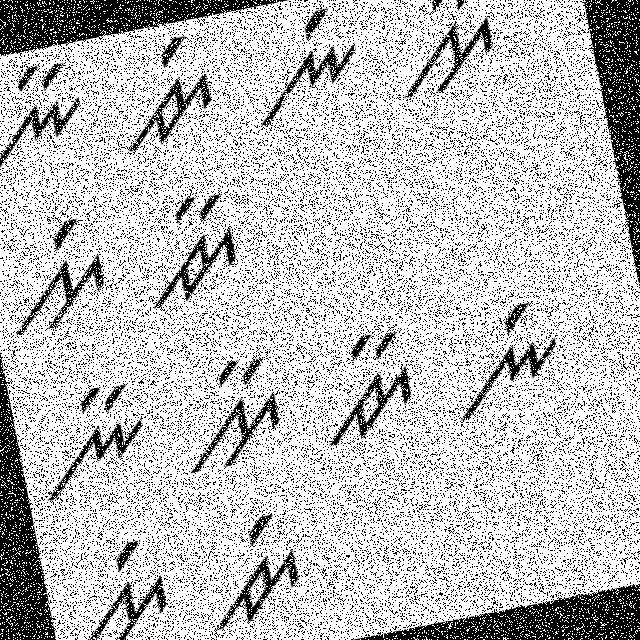jan: (120, 182, 254, 324), (304, 325, 424, 455)
jang: (98, 30, 233, 172), (189, 499, 314, 634)
nyan: (24, 361, 160, 511), (0, 50, 96, 187)
nyang: (426, 286, 576, 428), (233, 0, 374, 141)
san: (164, 346, 297, 489), (384, 0, 510, 102)
sang: (0, 207, 118, 340), (49, 526, 185, 639)
